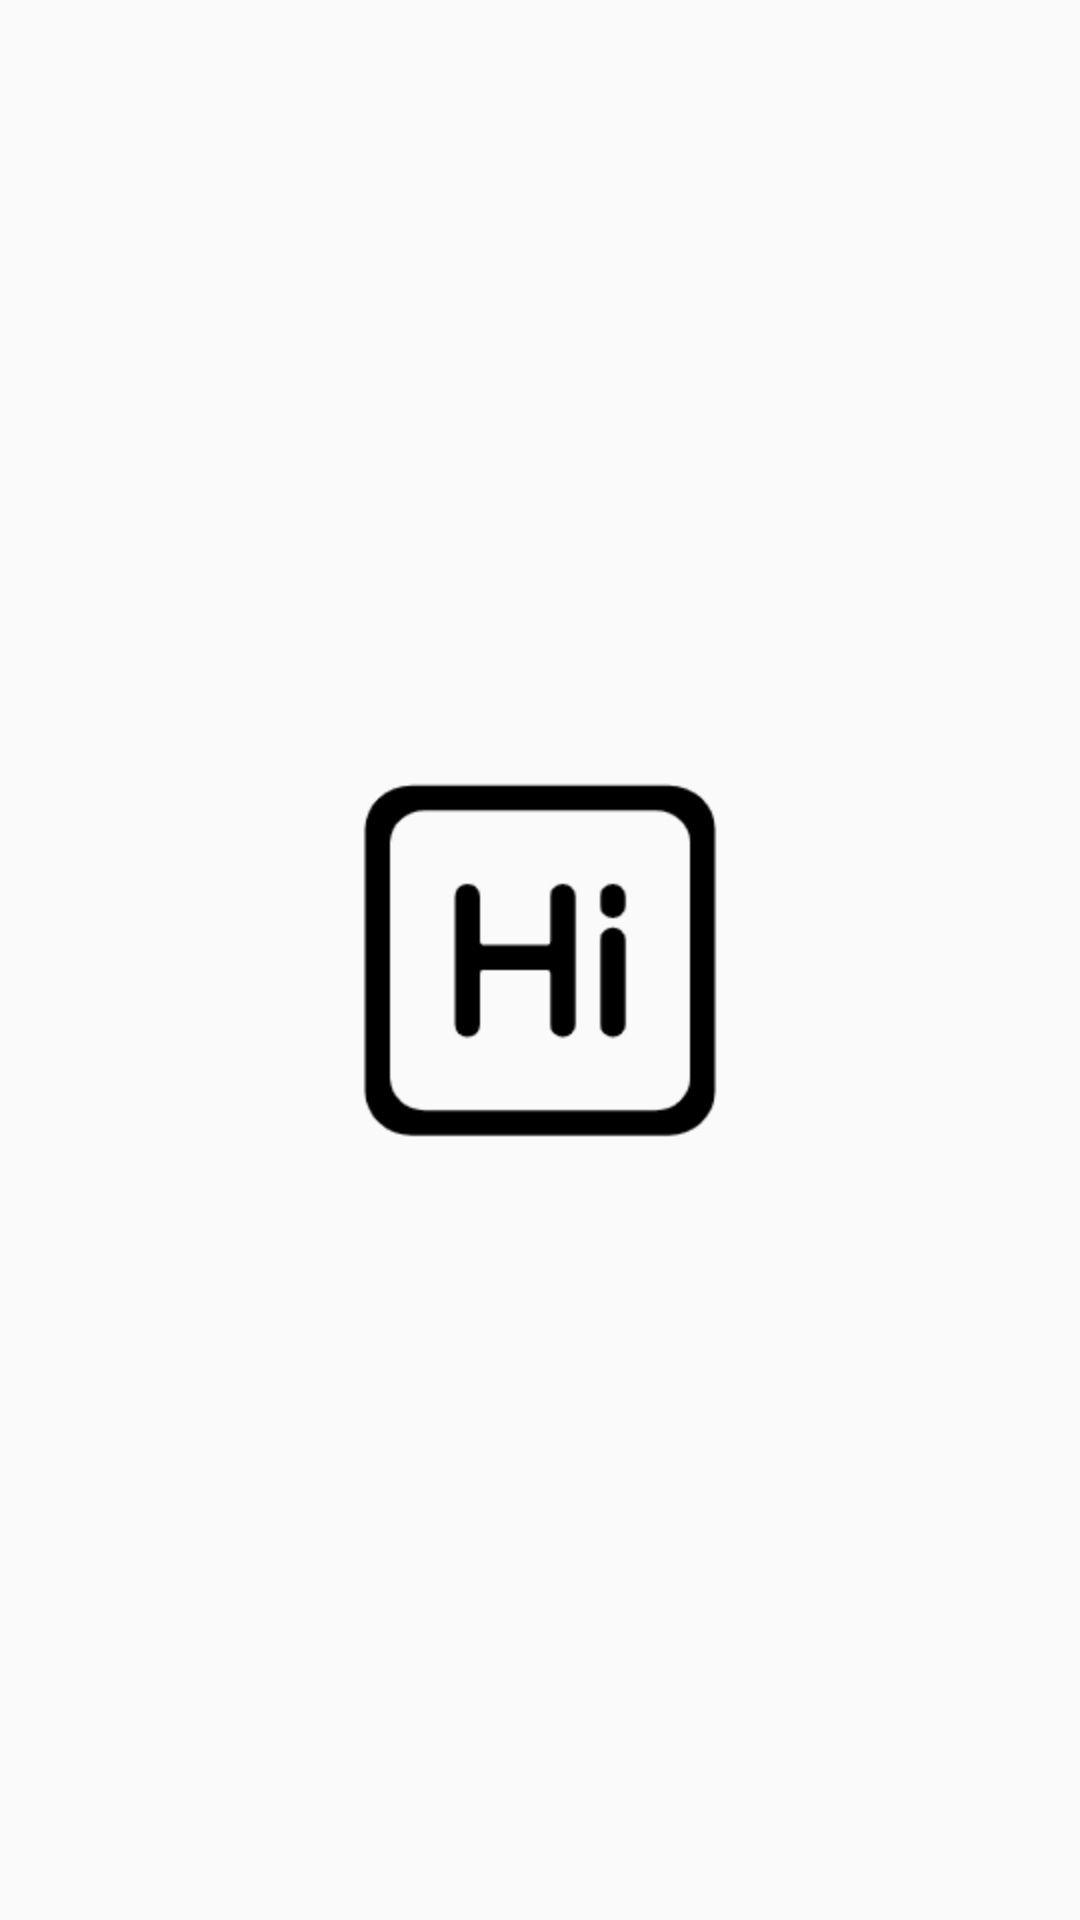

Where icons sit on this 1080w x 1920h app screen, as (x1, y1, x2, y2):
welcome: (363, 784, 717, 1137)
